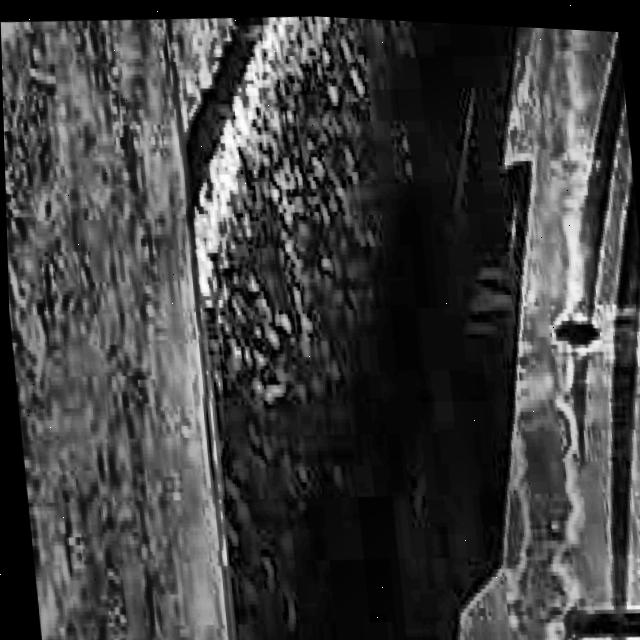Kereta: (336, 14, 640, 640)
